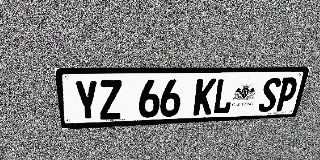6: (160, 79, 183, 117), (139, 79, 161, 118)
K: (193, 78, 217, 115)
L: (212, 78, 236, 114)
P: (274, 77, 299, 111)
S: (257, 78, 282, 112)
Y: (73, 80, 99, 121)
Z: (98, 80, 122, 120)
